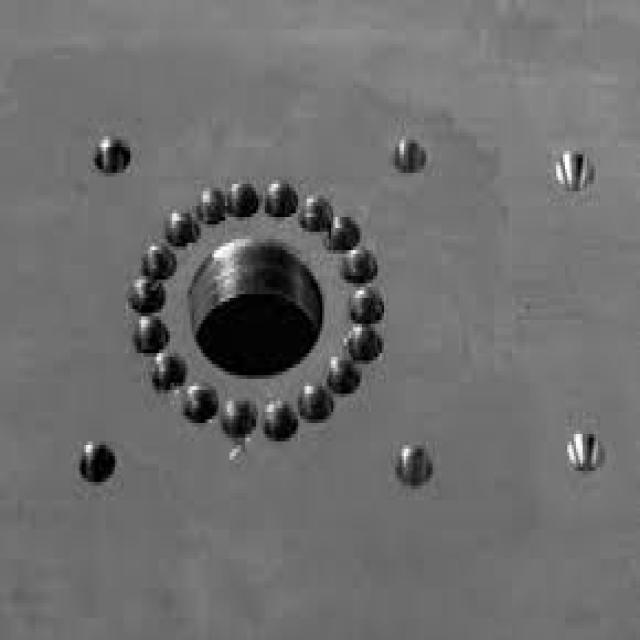holes: (187, 232, 330, 376), (555, 145, 598, 195), (77, 444, 119, 488), (90, 132, 131, 173), (566, 431, 605, 469), (398, 444, 433, 483), (393, 139, 429, 176)
